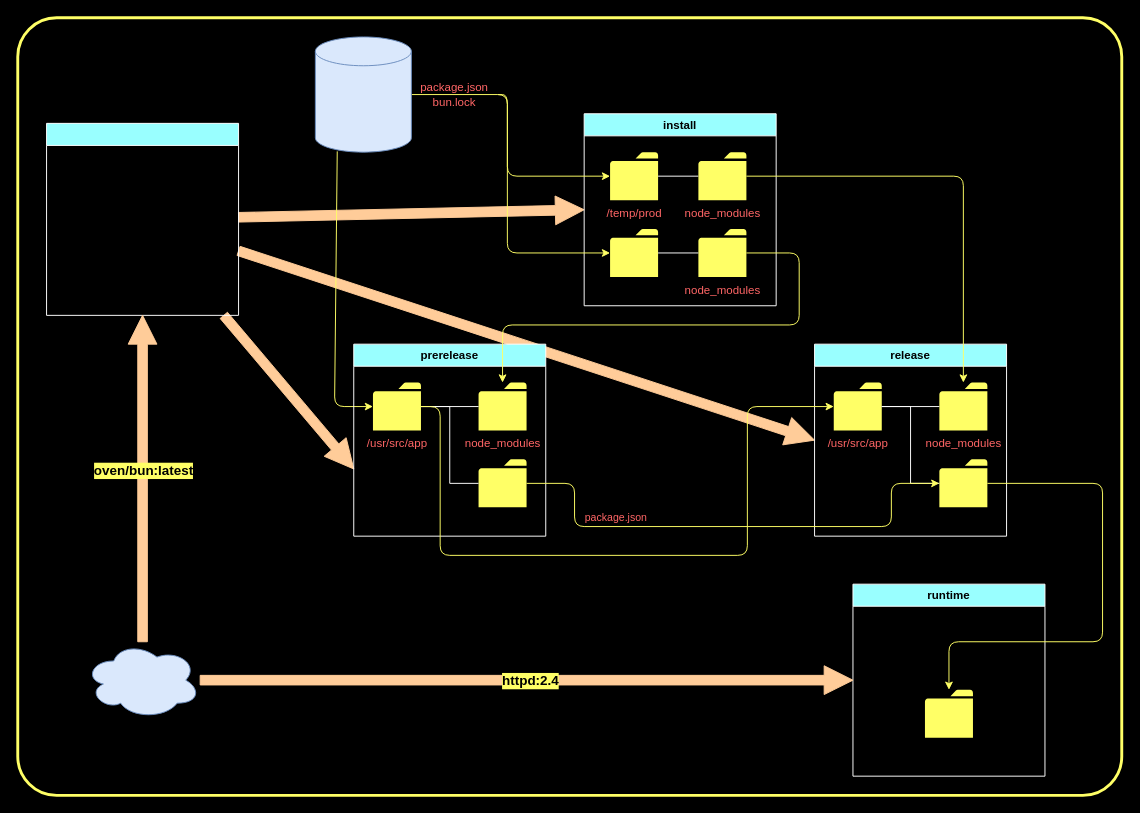
This 1140x813 diagram has some shape labels left out. Here are the shapes that lost their labels. From the top down, the centre of each, then its label:
At (142,218): "base".
At (634,252): "/temp/dev".
At (502,483): "build".
At (963,483): "dist".
At (948,713): "/usr/local/apache2/htdocs".
